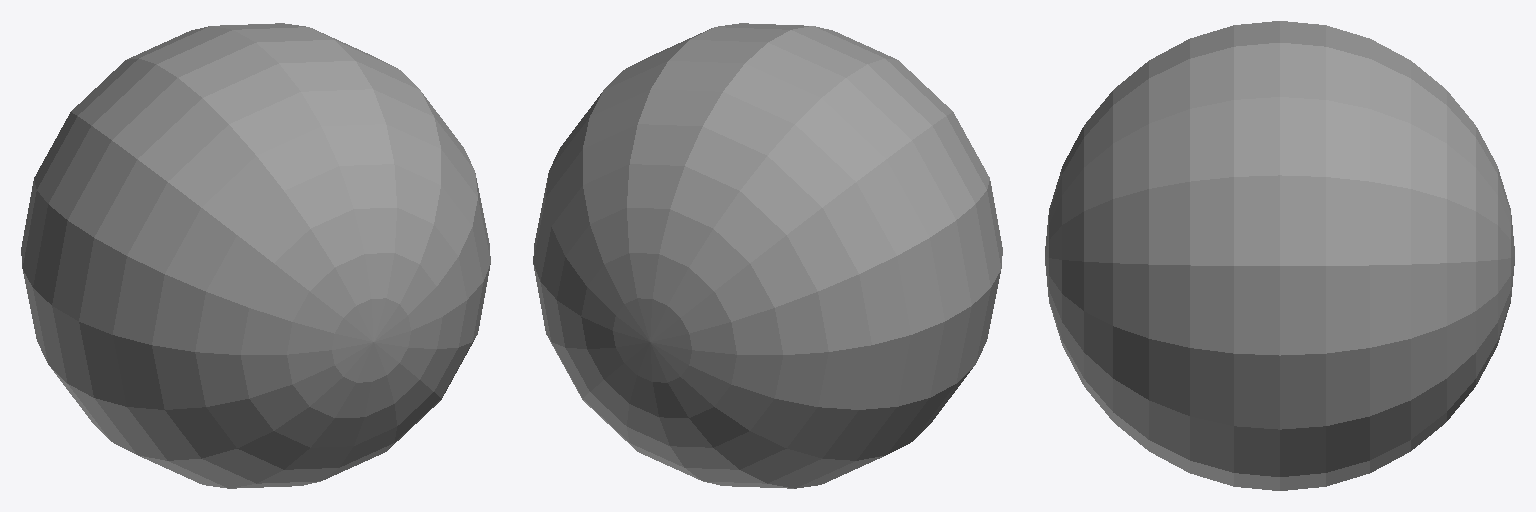
Rendered from black.obj.
3 renders of one model, left to right at view 1: azimuth 30°, elevation 25°; view 2: azimuth 150°, elevation 25°; view 3: azimuth 270°, elevation 25°, orthographic.
Visible parts, largest first — view 1: ball_Sphere.001; view 2: ball_Sphere.001; view 3: ball_Sphere.001.
Part boxes in pixels (bbox=[...]): ball_Sphere.001: bbox=[21, 23, 490, 488]; ball_Sphere.001: bbox=[533, 23, 1002, 488]; ball_Sphere.001: bbox=[1045, 21, 1514, 490].
Bounding box in the file's own units: 0.0525 × 0.0525 × 0.0525.